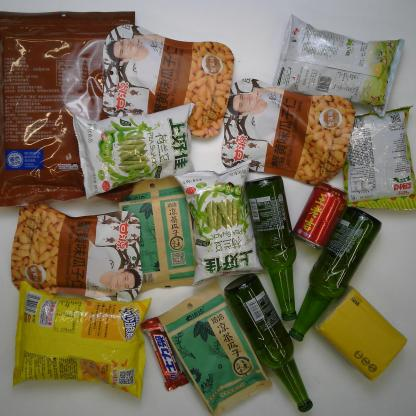Alcohol: (222, 270, 314, 414), (288, 206, 383, 345), (244, 174, 298, 322)
Chocolate: (140, 316, 190, 392)
Dried Food: (0, 9, 136, 210), (156, 283, 274, 416), (118, 175, 196, 295)
Dried Fruit: (102, 23, 236, 141), (220, 76, 356, 187), (9, 202, 144, 304)
Drink: (292, 180, 350, 251)
Puffed Food: (10, 280, 153, 402), (269, 13, 407, 118), (72, 102, 196, 202), (173, 158, 266, 288), (341, 103, 416, 212)
Tissue: (312, 283, 408, 381)
